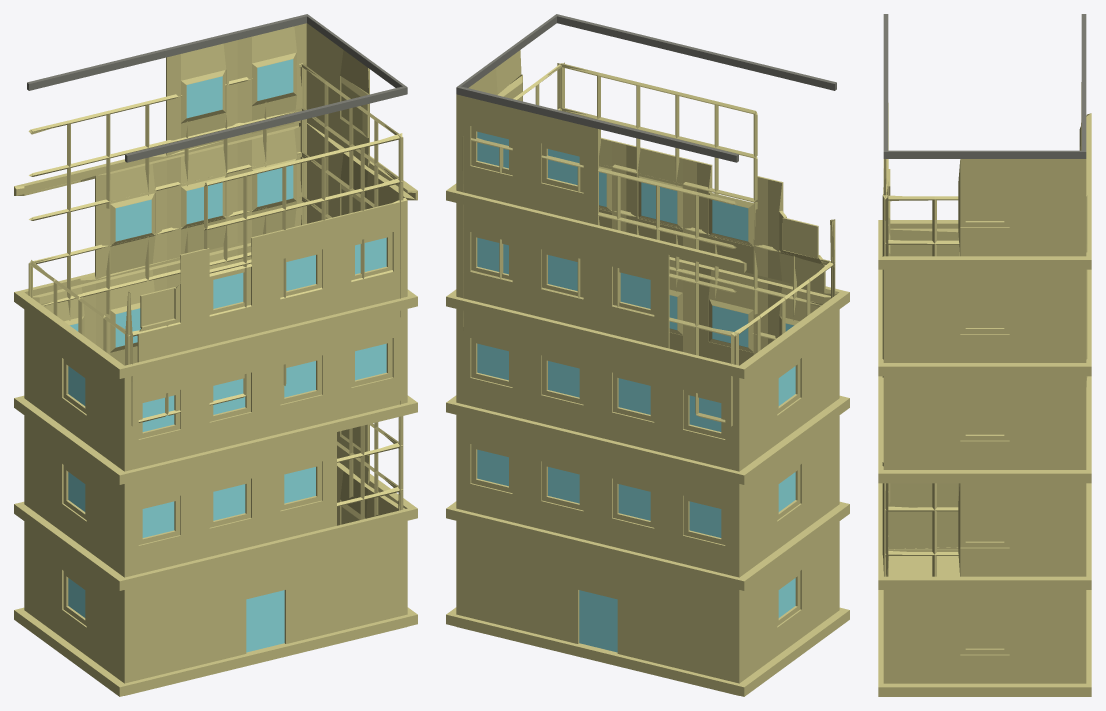
Rendered from house2.fbx.
3 views of the same model, side by side, from view 1: azimuth 30°, elevation 25°; view 2: azimuth 150°, elevation 25°; view 3: azimuth 270°, elevation 25° (orthographic).
Visible parts, largest first — view 1: 立方體.002; view 2: 立方體.002; view 3: 立方體.002.
Boxes of the visible parts, x1=… form: 立方體.002: x1=14, y1=14, x2=417, y2=696; 立方體.002: x1=446, y1=14, x2=849, y2=696; 立方體.002: x1=878, y1=14, x2=1091, y2=696.
Bounding box in the file's own units: 648 × 1120 × 398.
Materials: 1 (1 with a texture image).
